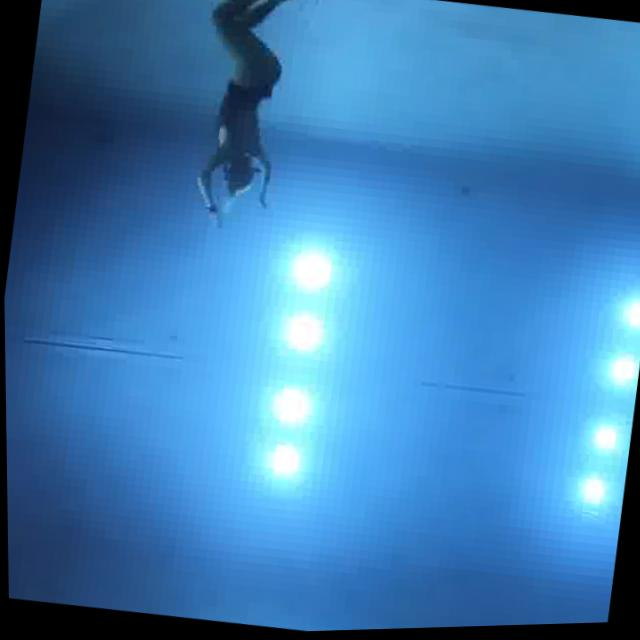human: (177, 0, 329, 244)
